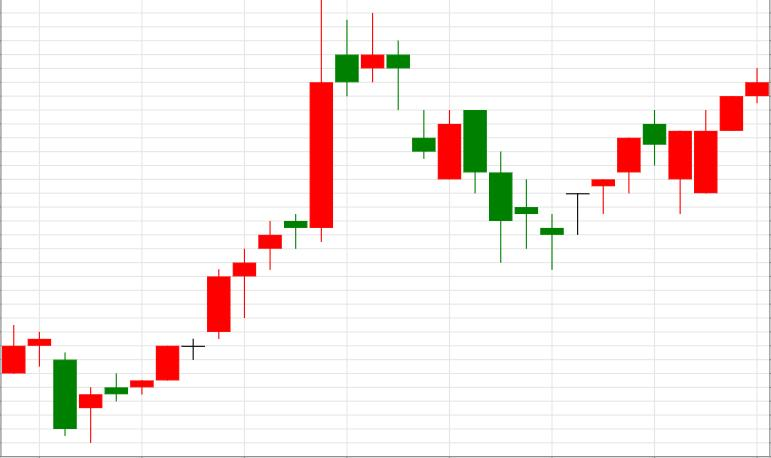shooting_star_fall: (130, 3, 358, 396)
